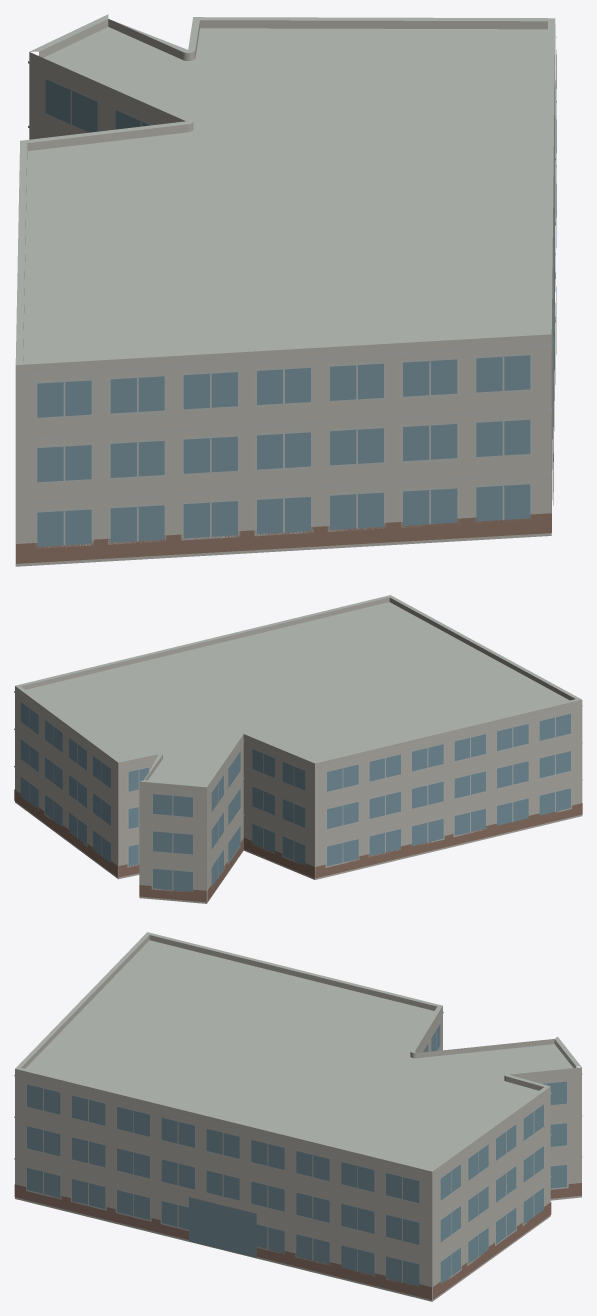
File: public-34976ec6-3753-4eca-a263-deb72d4bbc93.glb
3 views of the same model, one above another, from view 1: azimuth 30°, elevation 25°; view 2: azimuth 150°, elevation 25°; view 3: azimuth 270°, elevation 25° (orthographic). The views are drawn at different scales.
Parts seen in each view (by area): view 1: public-34976ec6-3753-4eca-a263-deb72d4bbc93; view 2: public-34976ec6-3753-4eca-a263-deb72d4bbc93; view 3: public-34976ec6-3753-4eca-a263-deb72d4bbc93.
Part boxes in pixels (box(x1,y1,x2,y2)): public-34976ec6-3753-4eca-a263-deb72d4bbc93: box(15, 14, 556, 566); public-34976ec6-3753-4eca-a263-deb72d4bbc93: box(14, 595, 582, 903); public-34976ec6-3753-4eca-a263-deb72d4bbc93: box(14, 932, 582, 1301).
Bounding box in the file's own units: 36.23 × 9.15 × 36.24.
